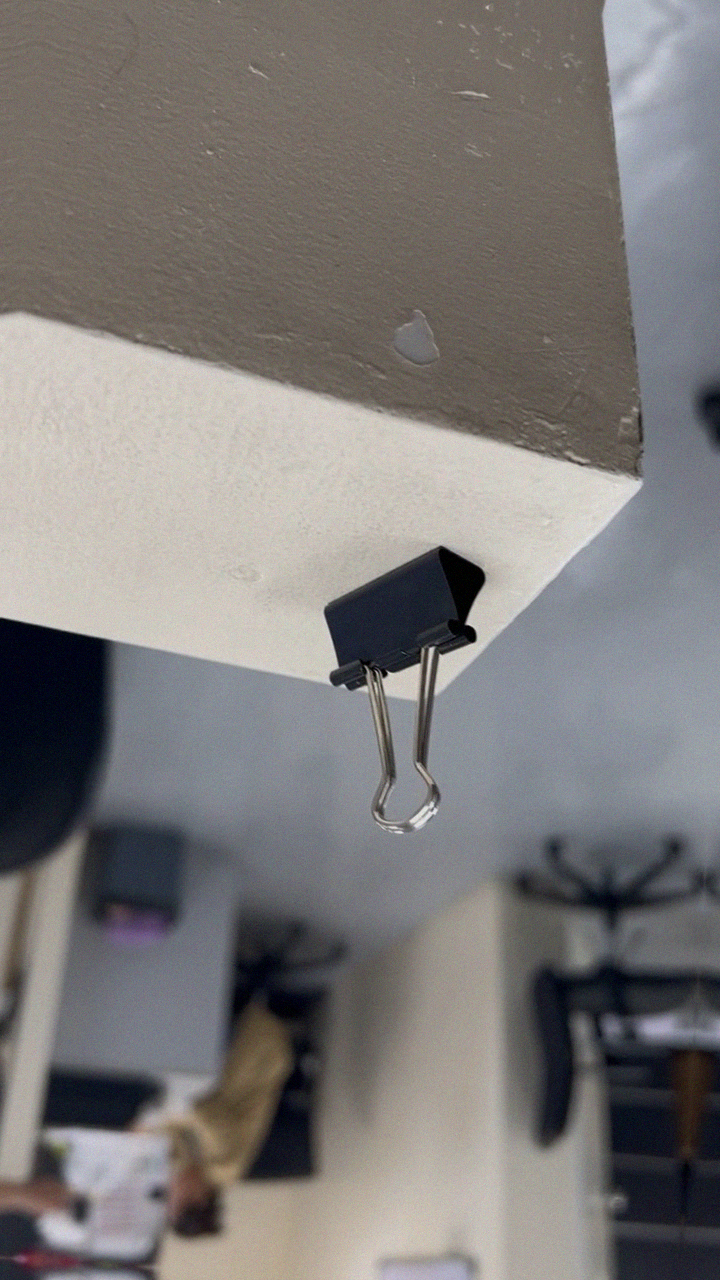kep_giay: (305, 534, 492, 841)
